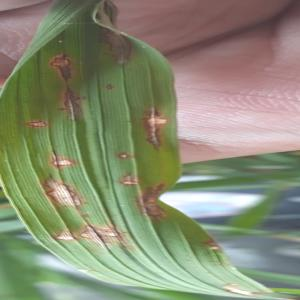1 RiceBlast: (76, 219, 138, 253), (38, 172, 81, 213), (55, 80, 90, 129), (137, 179, 170, 230), (141, 93, 172, 147), (47, 42, 88, 79), (12, 113, 61, 143), (47, 219, 80, 253), (36, 148, 80, 171), (109, 146, 142, 170), (119, 169, 150, 191), (199, 233, 227, 252)
